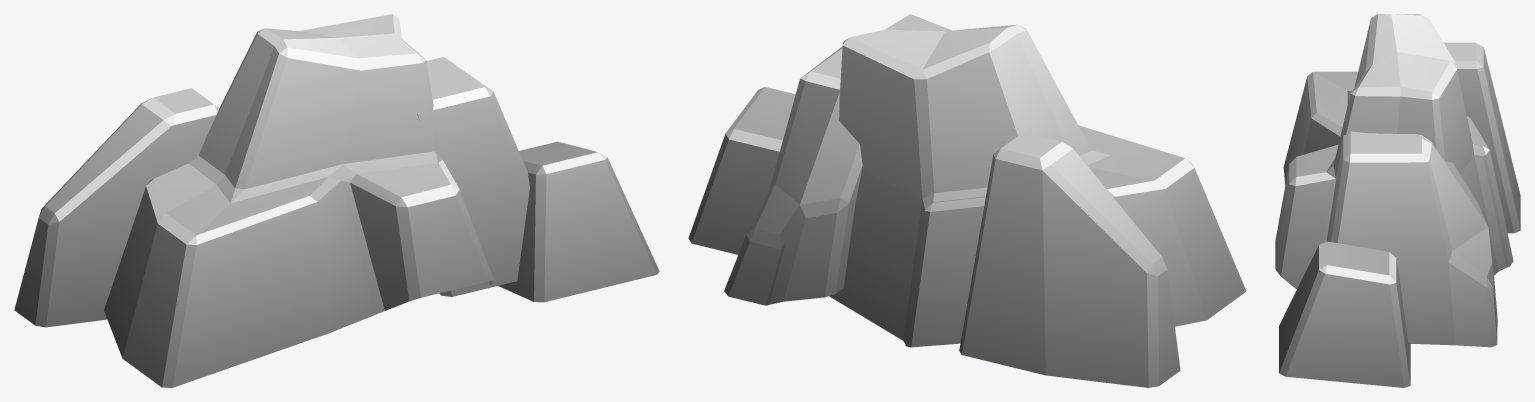
The model's file is Rock Large 2.glb.
3 views of the same model, side by side, from view 1: azimuth 30°, elevation 25°; view 2: azimuth 150°, elevation 25°; view 3: azimuth 270°, elevation 25° (orthographic). The views are drawn at different scales.
Visible parts, largest first — view 1: Rock Large 2; view 2: Rock Large 2; view 3: Rock Large 2.
Boxes of the visible parts, left/top/right/bottom form: Rock Large 2: left=14, top=14, right=659, bottom=387; Rock Large 2: left=688, top=14, right=1246, bottom=387; Rock Large 2: left=1275, top=14, right=1520, bottom=387.
Size of the model in its own units: 8.36 by 4.27 by 3.9.
Materials: 1 (1 with a texture image).
